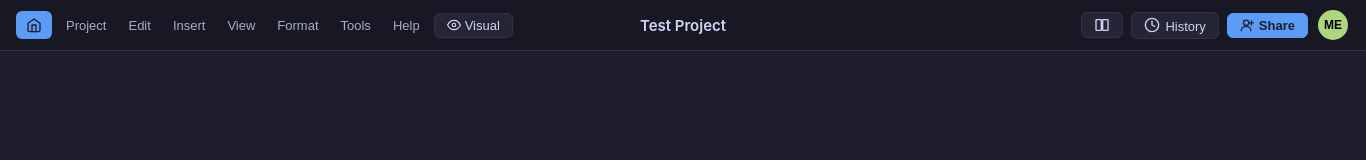
Test: Toolbar › opens Edit menu and shows Undo/Redo
The width and height of the screenshot is (1366, 160).
Click the button "Edit" at (140, 25), box [118, 14, 161, 36]
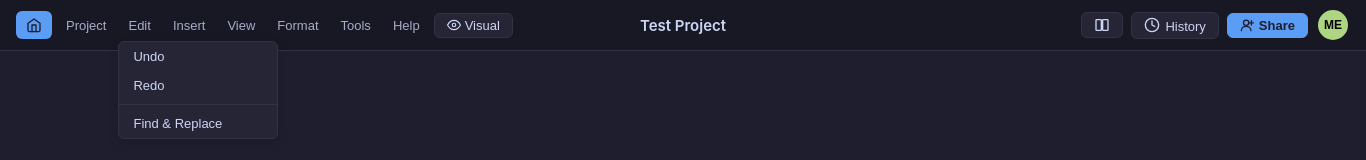
Expected: the button "Undo" is shown, [120, 42, 278, 70]
Expected: the button "Redo" is shown, [120, 70, 278, 100]
Expected: the button "Find & Replace" is shown, [120, 108, 278, 138]
